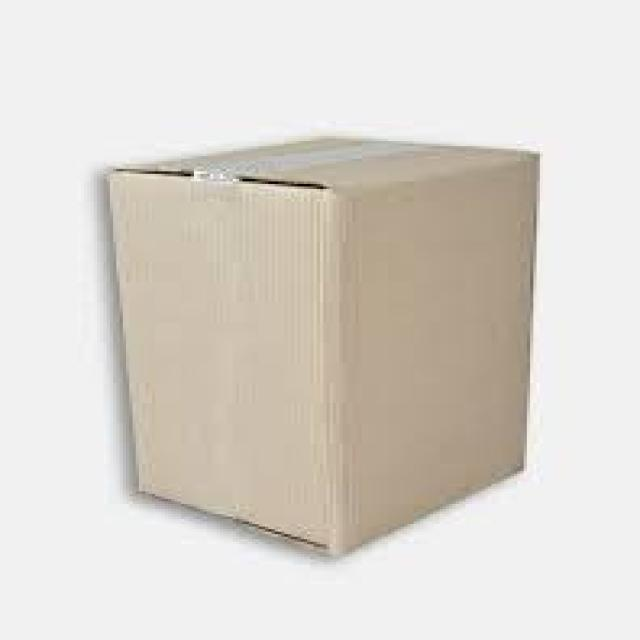cardboard: (104, 136, 537, 554)
